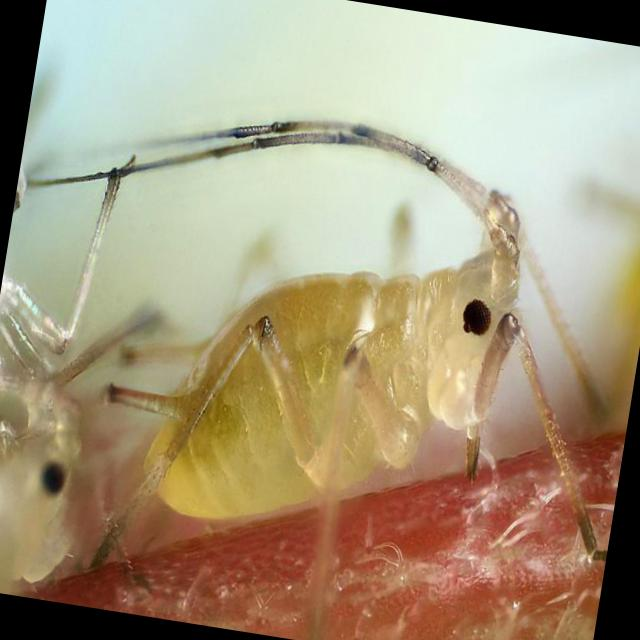Aphids: (0, 43, 619, 600)
